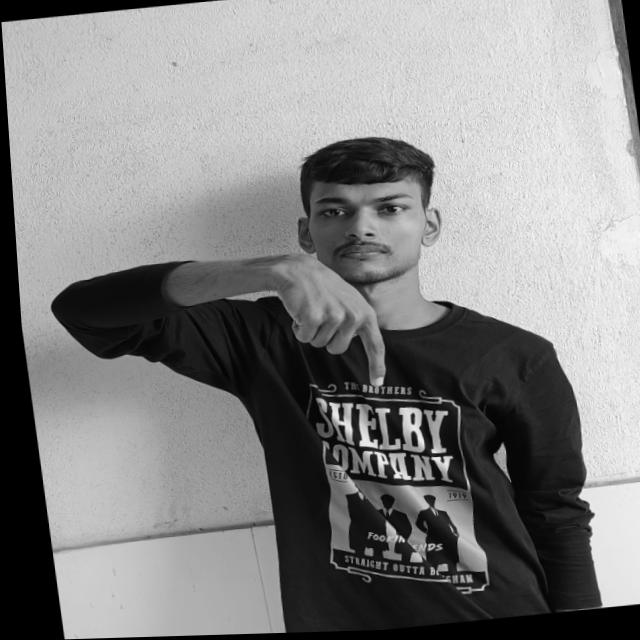Now: (269, 264, 386, 399)
